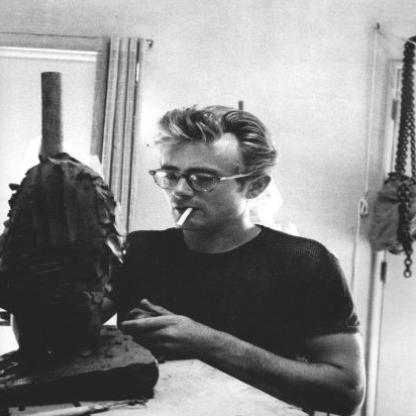cigarette: (173, 206, 196, 230)
person: (122, 102, 358, 402)
